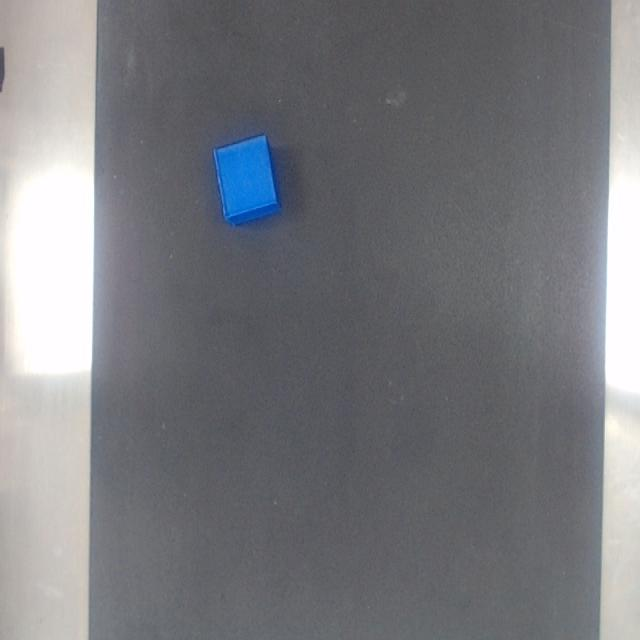Azul: (214, 135, 280, 225)
